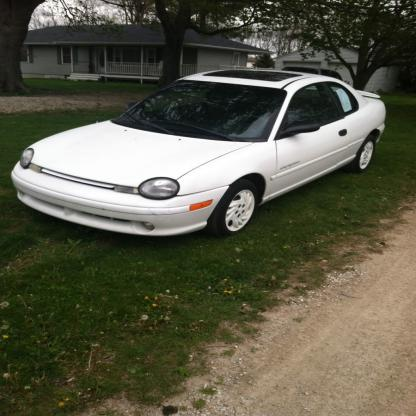Vehicle: (10, 67, 386, 247)
